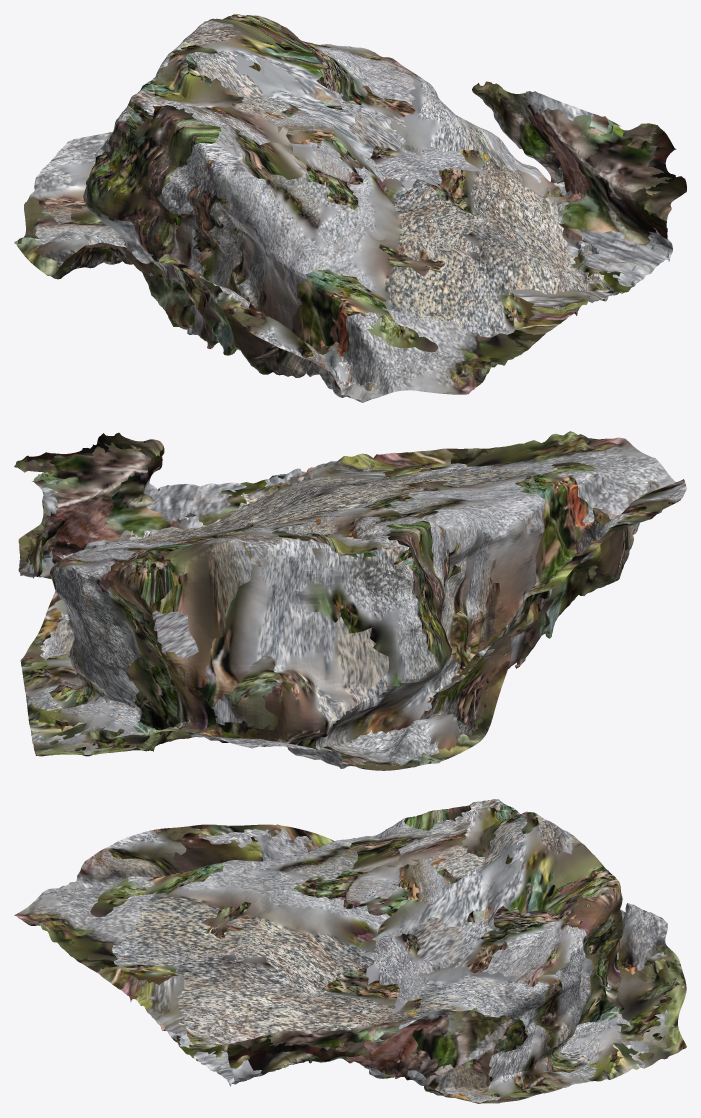
The picture shows the model from 3 angles, top to bottom: view 1: azimuth 30°, elevation 25°; view 2: azimuth 150°, elevation 25°; view 3: azimuth 270°, elevation 25°; orthographic projection. The views are drawn at different scales.
Visible parts, largest first — view 1: nodes[0]; view 2: nodes[0]; view 3: nodes[0].
Boxes of the visible parts, x1,y1,x2,y2 form: nodes[0]: (14,14,686,402); nodes[0]: (14,431,686,770); nodes[0]: (14,799,686,1103).
Size of the model in its own units: 1.77 by 0.6353 by 2.23.
